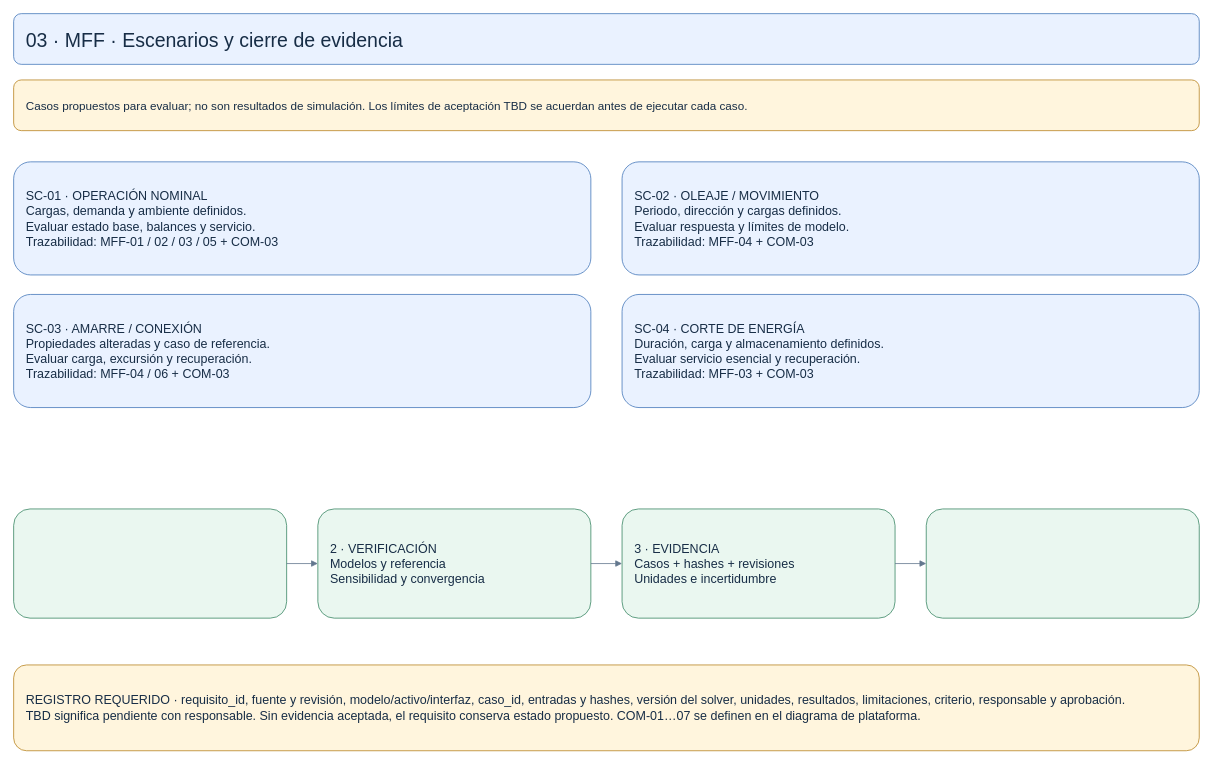
The diagram is 1213 pixels wide and 764 high, and some of its shapes have lost their labels. The shapes that lost their labels are listed below. From the top down, each one's centre as x and y in pixels, then its label:
At (x=150, y=563): "1 · LÍNEA BASE Requisitos y valores TBD Geometría / cargas / sitio".
At (x=1062, y=563): "4 · REVISIÓN Aceptar o corregir Aprobación registrada".
